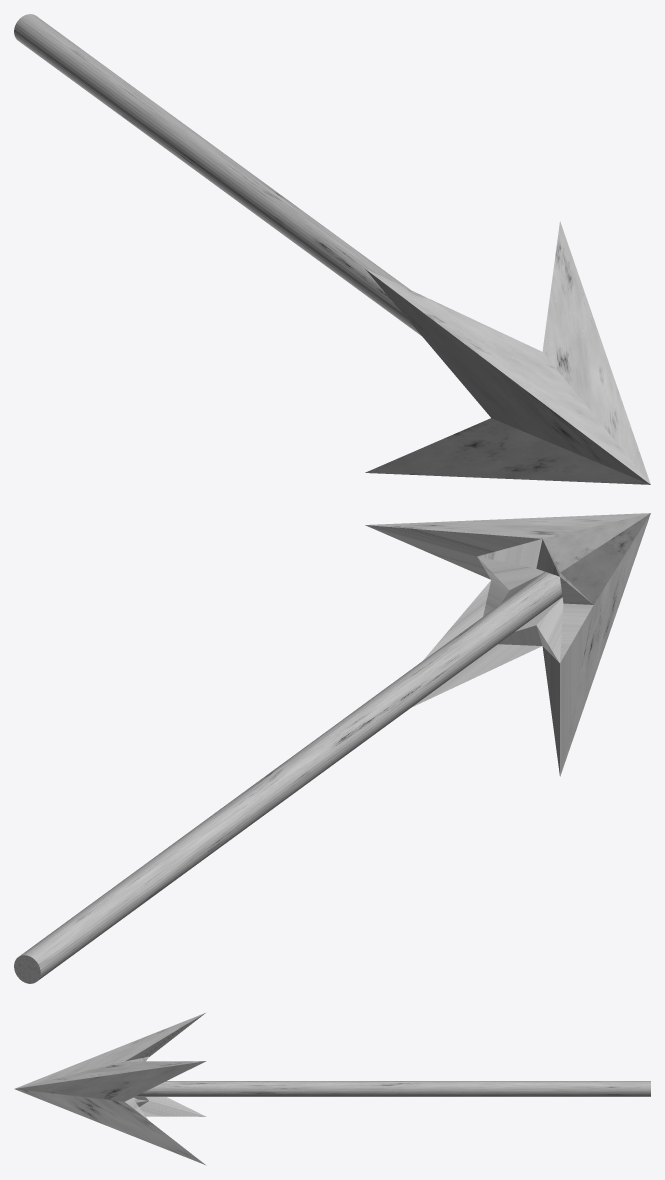
The model's file is arrow.obj.
The picture shows the model from 3 angles, top to bottom: view 1: azimuth 30°, elevation 25°; view 2: azimuth 150°, elevation 25°; view 3: azimuth 270°, elevation 25°; orthographic projection. The views are drawn at different scales.
Visible parts, largest first — view 1: arrow; view 2: arrow; view 3: arrow.
Part boxes in pixels (<box>): arrow: <box>14,14,650,484</box>; arrow: <box>14,513,650,983</box>; arrow: <box>14,1012,650,1165</box>.
Bounding box in the file's own units: 0.1773 × 0.1773 × 0.9797.
Materials: 1 (1 with a texture image).
